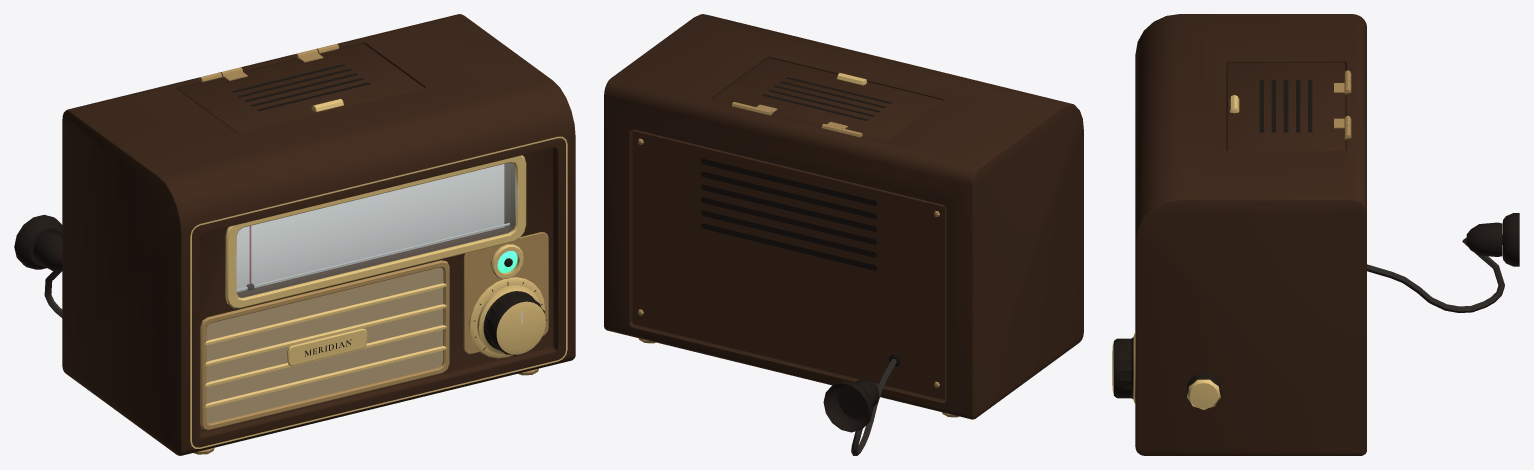
The model's file is radio.glb.
3 renders of one model, left to right at view 1: azimuth 30°, elevation 25°; view 2: azimuth 150°, elevation 25°; view 3: azimuth 270°, elevation 25°, orthographic. The views are drawn at different scales.
Parts seen in each view (by area): view 1: radio_body, dial_glass, radio_dial, IA_radio_hatch, IA_tuning_knob; view 2: radio_body, IA_radio_hatch; view 3: radio_body, IA_radio_hatch, IA_tuning_knob.
Part boxes in pixels (x1=…): radio_body: x1=14, y1=14, x2=575, y2=455; dial_glass: x1=235, y1=163, x2=519, y2=297; radio_dial: x1=236, y1=164, x2=504, y2=292; IA_radio_hatch: x1=177, y1=43, x2=423, y2=132; IA_tuning_knob: x1=477, y1=285, x2=546, y2=355; radio_body: x1=604, y1=14, x2=1083, y2=455; IA_radio_hatch: x1=712, y1=58, x2=942, y2=141; radio_body: x1=1135, y1=14, x2=1519, y2=455; IA_radio_hatch: x1=1227, y1=62, x2=1351, y2=150; IA_tuning_knob: x1=1112, y1=333, x2=1135, y2=403.
Bounding box in the file's own units: 0.4372 × 0.2851 × 0.387.
